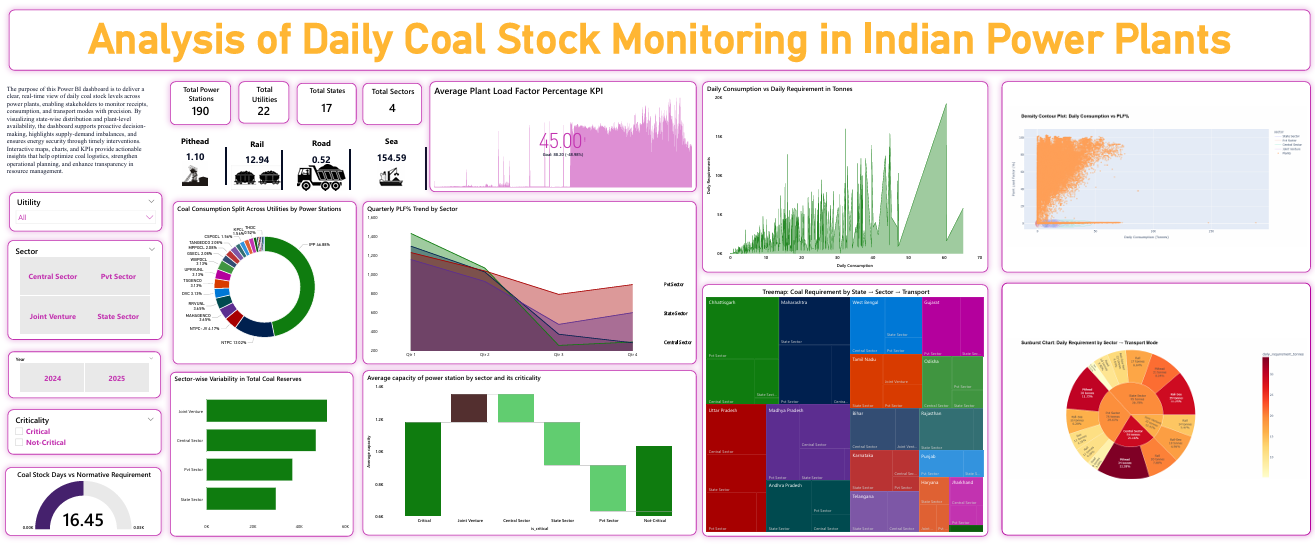

The page's visual inventory and layout, read from the dashboard file:
{"tool":"powerbi","page":{"name":"Dashboard 1","canvas":[3350,1400],"ordinal":0},"visuals":[{"type":"card","title":"Total Power Stations","fields":{"Values":["Count(df.power_station_name)"]},"box":[429.6,214.8,155.6,111.1],"z":0},{"type":"textbox","box":[20.8,33.3,3304.2,154.2],"z":1000},{"type":"pieChart","title":"Coal Consumption Split Across Utilities by Power Stations","fields":{"Y":["Count(df.power_station_name)"],"Category":["df.utility"]},"box":[437,518.5,466.7,414.8],"z":2000},{"type":"barChart","title":"Sector‑wise Variability in Total Coal Reserves","fields":{"Category":["df.sector"],"Y":["Sum(df.total_stock_tonnes)"]},"box":[429.6,951.9,466.7,418.5],"z":3000},{"type":"slicer","fields":{"Values":["df.sector"]},"box":[17.6,617.6,394.1,252.9],"z":4000},{"type":"slicer","fields":{"Values":["df.utility"]},"box":[22.2,496.3,388.9,100],"z":5000},{"type":"gauge","title":"Coal Stock Days vs Normative Requirement","fields":{"TargetValue":["Sum(df.req_normative_stock_days)"],"Y":["Avg(df.stock_days)"]},"box":[11.8,1194.1,397.1,173.5],"z":6000},{"type":"cardVisual","title":"Pithead","fields":{"Data":["Avg(df.import_stock_tonnes)"]},"box":[407.4,351.9,174.1,133.3],"z":7000},{"type":"cardVisual","title":"Rail","fields":{"Data":["Avg(df.import_stock_tonnes)"]},"box":[581.5,359.3,140.7,137],"z":8000},{"type":"cardVisual","title":"Road","fields":{"Data":["Avg(df.import_stock_tonnes)"]},"box":[733.3,355.6,163,140.7],"z":9000},{"type":"cardVisual","title":"Sea","fields":{"Data":["Avg(df.import_stock_tonnes)"]},"box":[896.3,351.9,192.6,144.4],"z":10000},{"type":"textbox","box":[11.1,218.5,385.2,240.7],"z":11000},{"type":"card","title":"Total States","fields":{"Values":["Count(df.state_name)"]},"box":[751.9,218.5,151.9,107.4],"z":12000},{"type":"waterfallChart","title":"Average capacity of power station by sector and its criticality","fields":{"Category":["df.is_critical"],"Y":["Avg(df.capacity_of_power_station)"],"Breakdown":["df.sector"]},"box":[918.5,948.1,848.1,418.5],"z":13000},{"type":"areaChart","title":"Quarterly PLF% Trend by Sector","fields":{"Series":["df.sector"],"Category":["Calendar.Date.Variation.Date Hierarchy.Quarter"],"Y":["Sum(df.plf_prcnt)"]},"box":[918.5,518.5,848.1,414.8],"z":14000},{"type":"stackedAreaChart","title":"Daily Consumption vs Daily Requirement in Tonnes","fields":{"Y":["Sum(df.daily_consumption_tonnes)"],"Category":["df.daily_requirement_tonnes"]},"box":[1781.5,214.8,725.9,485.2],"z":15000},{"type":"treemap","title":"Treemap: Coal Requirement by State → Sector → Transport","fields":{"Group":["df.state_name","df.mode_of_transport"],"Values":["Sum(df.daily_requirement_tonnes)"],"Details":["df.sector"]},"box":[1781.5,729.6,725.9,640.7],"z":16000},{"type":"slicer","fields":{"Values":["df.is_critical"]},"box":[17.6,1047.1,391.2,114.7],"z":17000},{"type":"slicer","fields":{"Values":["Calendar.Year"]},"box":[18.5,900,388.9,118.5],"z":18000},{"type":"image","box":[2540.7,214.8,785.2,485.2],"z":19000},{"type":"image","box":[2540.7,725.9,785.2,640.7],"z":20000},{"type":"card","title":"Total Utilities","fields":{"Values":["Count(df.utility)"]},"box":[603.7,214.8,129.6,107.4],"z":21000},{"type":"card","title":"Total Sectors","fields":{"Values":["Count(df.sector)"]},"box":[918.5,218.5,151.9,107.4],"z":22000},{"type":"kpi","title":"Average Plant Load Factor Percentage KPI","fields":{"Goal":["Max(df.total_stock_tonnes)"],"TrendLine":["df.actual_vs_normative_stock_prcnt"],"Indicator":["Avg(df.plf_prcnt)"]},"box":[1088.9,214.8,677.8,281.5],"z":23000}]}

Visuals, with their boxes in screenshot pixels (x1, y1, x2, y2), scaled from the page's 3350x1400 canvas onto the 1315x549 screenshot:
"Total Power Stations" card: 169/84/230/128
textbox: 8/13/1305/74
"Coal Consumption Split Across Utilities by Power Stations" pieChart: 172/203/355/366
"Sector‑wise Variability in Total Coal Reserves" barChart: 169/373/352/537
slicer - df.sector: 7/242/162/341
slicer - df.utility: 9/195/161/234
"Coal Stock Days vs Normative Requirement" gauge: 5/468/161/536
"Pithead" cardVisual: 160/138/228/190
"Rail" cardVisual: 228/141/283/195
"Road" cardVisual: 288/139/352/195
"Sea" cardVisual: 352/138/427/195
textbox: 4/86/156/180
"Total States" card: 295/86/355/128
"Average capacity of power station by sector and its criticality" waterfallChart: 361/372/693/536
"Quarterly PLF% Trend by Sector" areaChart: 361/203/693/366
"Daily Consumption vs Daily Requirement in Tonnes" stackedAreaChart: 699/84/984/274
"Treemap: Coal Requirement by State → Sector → Transport" treemap: 699/286/984/537
slicer - df.is_critical: 7/411/160/456
slicer - Calendar.Year: 7/353/160/399
image: 997/84/1306/274
image: 997/285/1306/536
"Total Utilities" card: 237/84/288/126
"Total Sectors" card: 361/86/420/128
"Average Plant Load Factor Percentage KPI" kpi: 427/84/693/195
